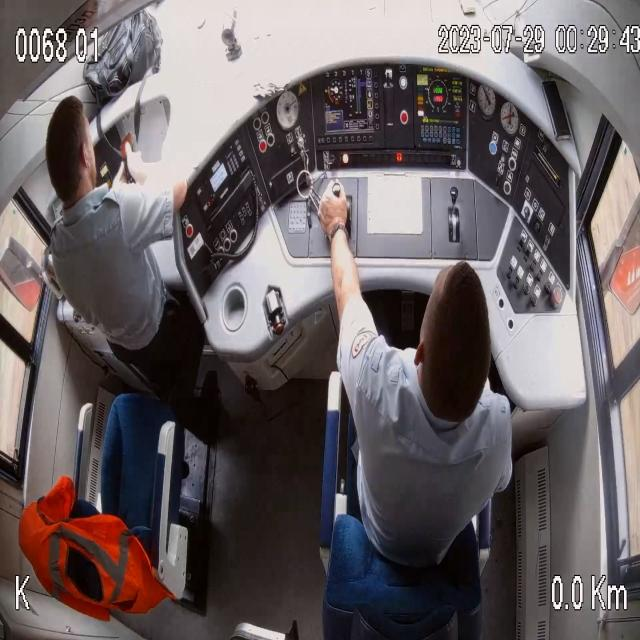smartphone: (116, 130, 142, 184)
